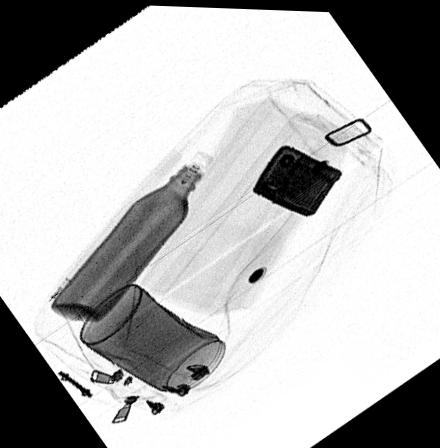Lighter: (250, 142, 343, 215)
